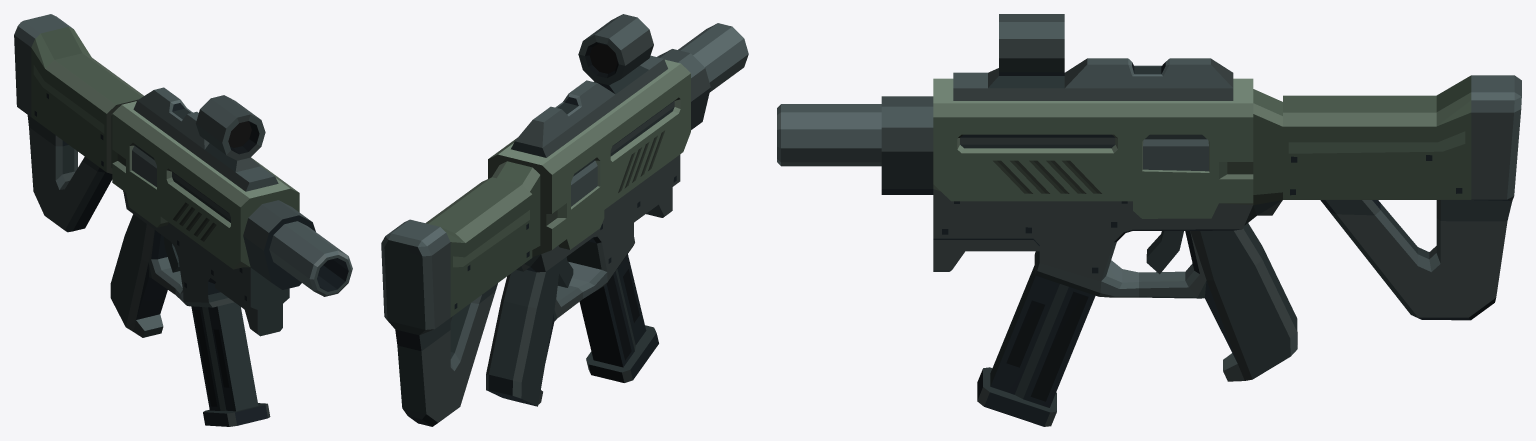
File: SSG_Guns_Pack_07.fbx
3 renders of one model, left to right at view 1: azimuth 30°, elevation 25°; view 2: azimuth 150°, elevation 25°; view 3: azimuth 270°, elevation 25°, orthographic. The views are drawn at different scales.
Parts seen in each view (by area): view 1: SSG_Guns_Pack_07, SSG_Guns_Pack_07_Trigger; view 2: SSG_Guns_Pack_07, SSG_Guns_Pack_07_Trigger; view 3: SSG_Guns_Pack_07, SSG_Guns_Pack_07_Trigger.
Part boxes in pixels (x1,y1,x2,y2): SSG_Guns_Pack_07: (14, 14, 352, 426); SSG_Guns_Pack_07_Trigger: (163, 237, 180, 272); SSG_Guns_Pack_07: (381, 14, 748, 426); SSG_Guns_Pack_07_Trigger: (557, 257, 573, 287); SSG_Guns_Pack_07: (777, 14, 1521, 426); SSG_Guns_Pack_07_Trigger: (1146, 231, 1183, 274).
Size of the model in its own units: 0.0687 by 0.3536 by 0.5986.
